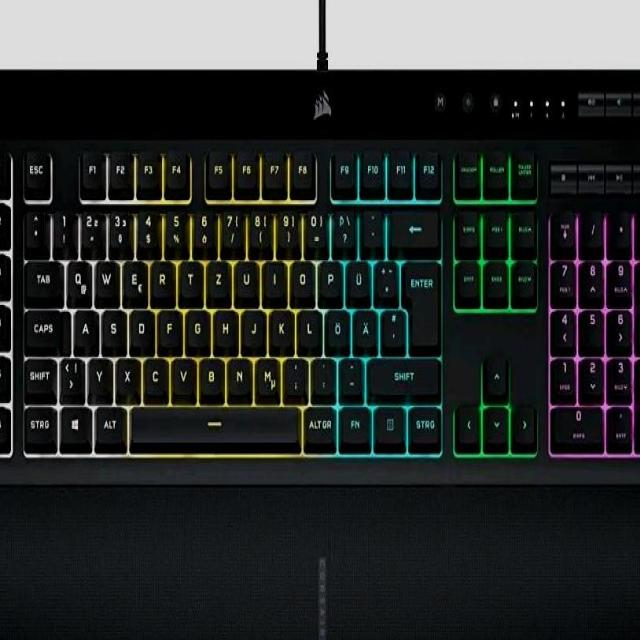0: (303, 209, 326, 251)
1: (51, 208, 77, 255)
2: (79, 207, 105, 256)
3: (107, 206, 131, 255)
4: (135, 203, 160, 253)
5: (163, 204, 188, 255)
6: (192, 209, 214, 251)
7: (220, 204, 243, 251)
8: (247, 203, 271, 253)
9: (274, 204, 299, 252)
a: (72, 305, 98, 353)
accent: (361, 206, 383, 251)
ae: (352, 304, 376, 349)
alt-left: (93, 400, 127, 447)
altgr-right: (301, 402, 334, 448)
b: (198, 353, 224, 396)
c: (142, 353, 167, 396)
caret: (24, 206, 47, 251)
comma: (281, 354, 306, 396)
d: (128, 305, 153, 350)
del: (388, 206, 438, 249)
e: (121, 256, 147, 302)
enter: (400, 256, 438, 347)
f: (156, 305, 179, 347)
g: (184, 305, 208, 349)
h: (212, 305, 237, 349)
hash: (381, 305, 403, 346)
i: (261, 256, 285, 297)
j: (240, 305, 263, 349)
k: (268, 304, 293, 349)
keyboard: (0, 139, 640, 479)
l: (296, 304, 320, 350)
less: (58, 353, 84, 400)
m: (253, 354, 279, 398)
minus: (337, 353, 361, 395)
n: (226, 354, 251, 396)
o: (289, 256, 314, 298)
oe: (323, 305, 348, 350)
p: (316, 256, 341, 300)
plus: (373, 256, 396, 301)
point: (311, 353, 334, 395)
q: (65, 256, 91, 305)
r: (149, 256, 175, 300)
s: (99, 305, 125, 351)
shift-left: (22, 352, 57, 401)
shift-lock: (23, 304, 60, 351)
shift-right: (366, 353, 438, 395)
space: (128, 402, 300, 447)
ss: (330, 206, 354, 252)
strg-left: (22, 400, 58, 452)
strg-right: (406, 402, 440, 448)
t: (178, 256, 201, 298)
tab: (22, 256, 64, 302)
u: (233, 256, 258, 301)
ue: (345, 256, 369, 300)
v: (170, 353, 195, 396)
w: (94, 256, 120, 302)
x: (113, 353, 140, 399)
y: (86, 353, 112, 399)
z: (205, 256, 230, 300)
